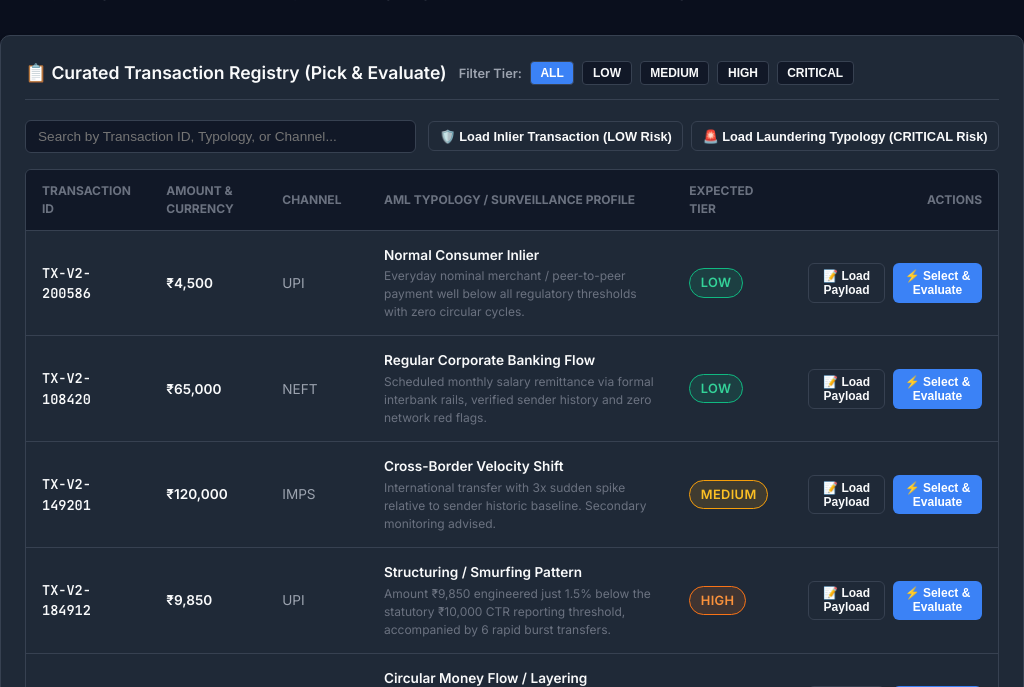
it: AnalyzeTransaction Page Component › successfully evaluates transaction and renders risk results
Note: Load suspicious preset
Click the button "🚨 Load Laundering Typology (CRITICAL Risk)" at x=845, y=136, box [691,121,999,151]
(page scrolled)
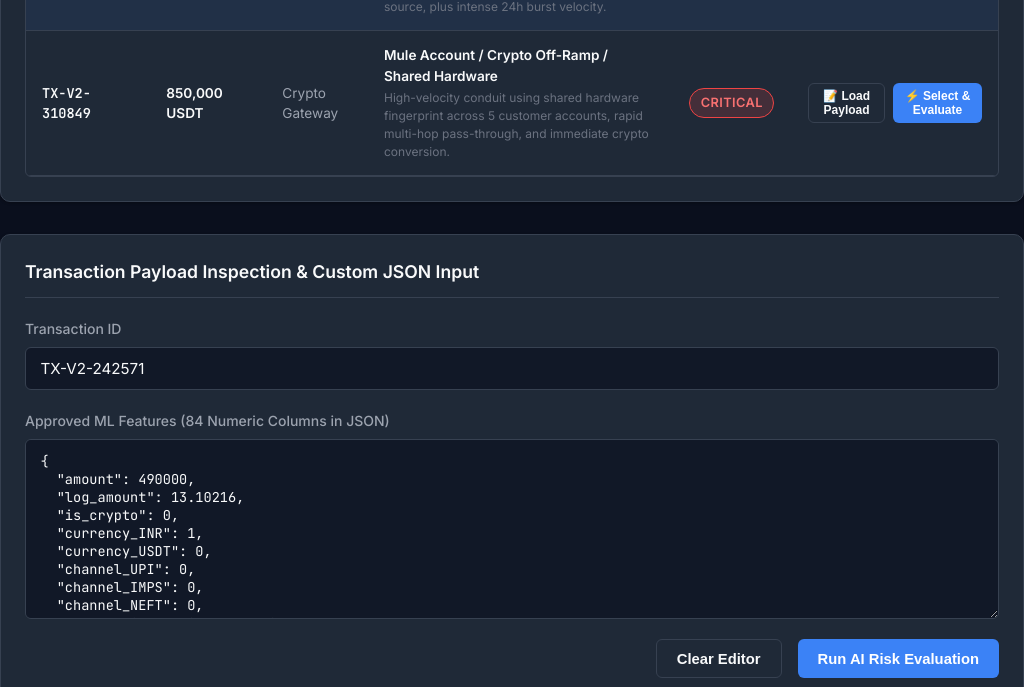
Note: Click submit
Click the button "Run AI Risk Evaluation" at x=898, y=659, box [798,639,999,678]
(page scrolled)
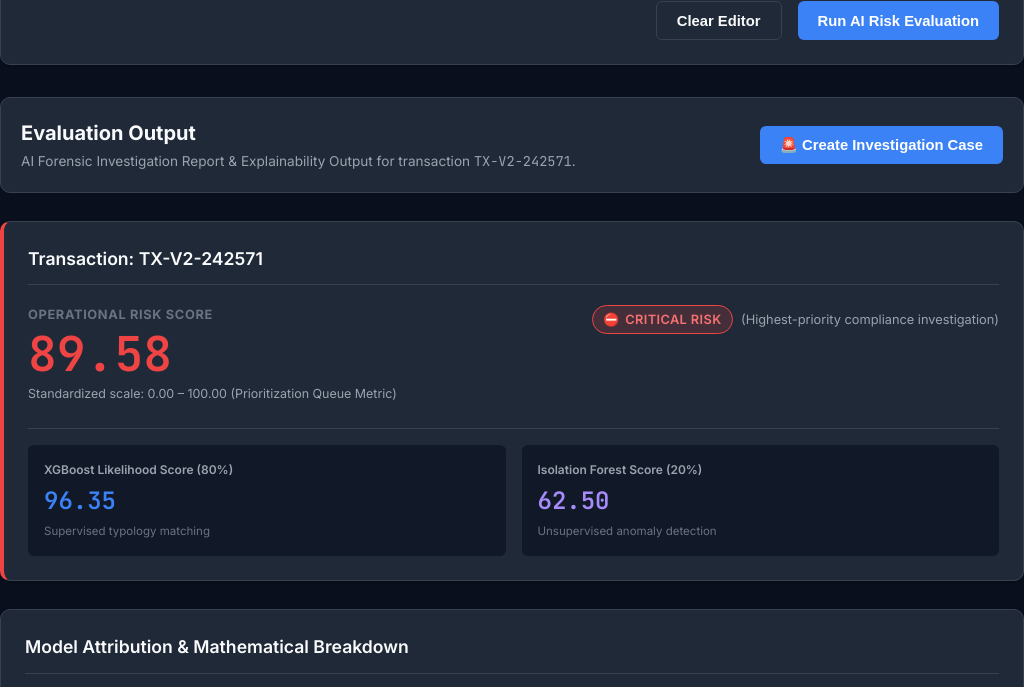
Expected: the text "Evaluation Output" is shown, [21,121,196,145]
Expected: the text "Operational Risk Score" is shown, [28,307,213,322]
Expected: the text "89.58" is shown, [28,322,172,385]
